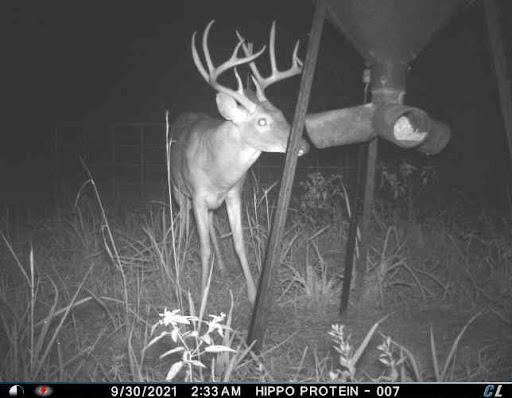Deer: (165, 21, 312, 329)
